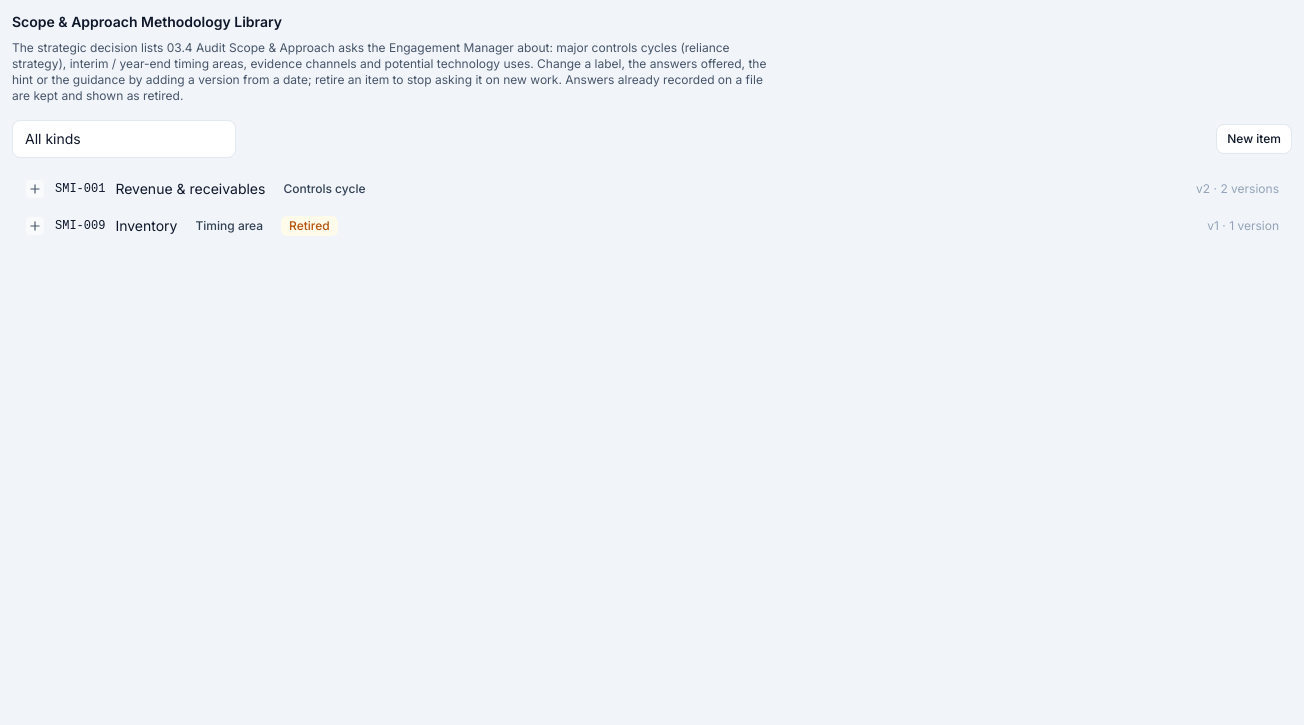
03.4 Scope & Approach Methodology Library administration › lists each item once (latest version), its kind, history and retired items
The image size is (1304, 725).
Expected: the text "Revenue & receivables" is shown, [115,179,265,199]
Expected: the text "Retired" is shown, [281,216,338,236]
Click the button "SMI-001 Revenue & receivables Controls cycle v2 · 2 versions": (80, 189) [25,179,1279,199]
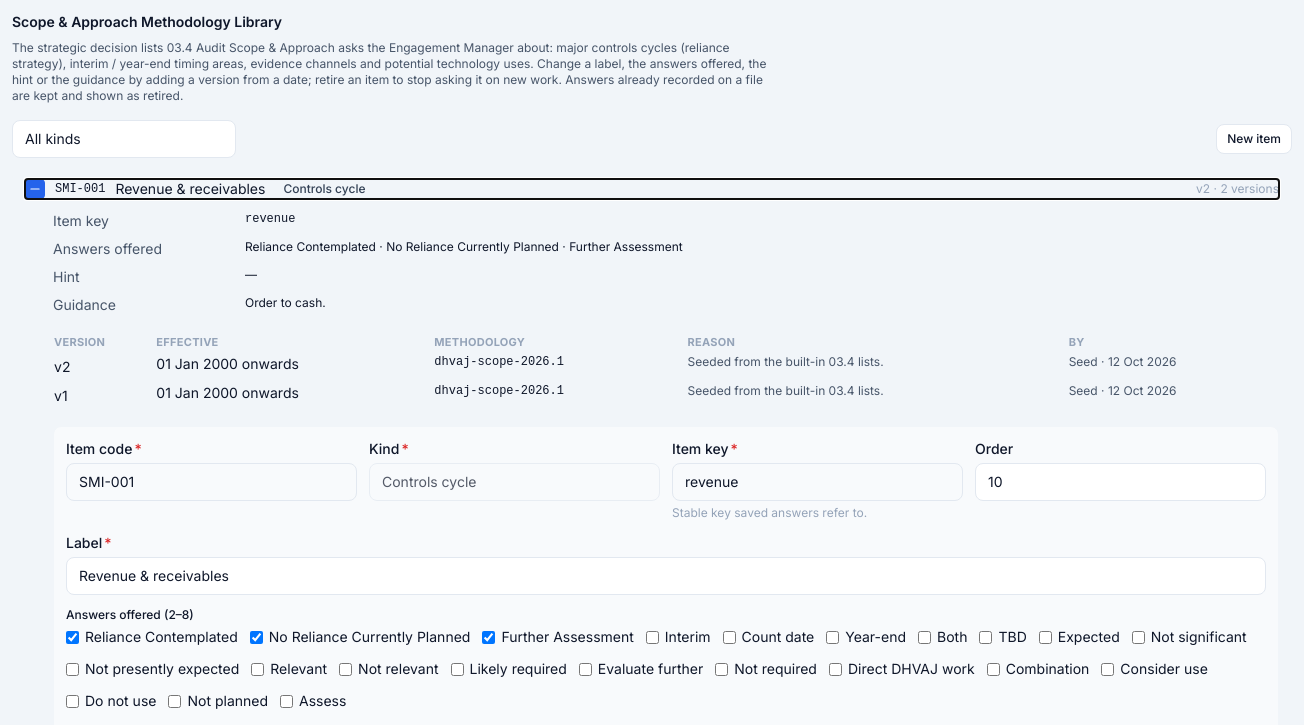
Now the text "Order to cash." is shown, box [245,295,326,310]
Now the text "v1" is shown, box [53,382,155,410]
Now the text "v2" is shown, box [53,353,155,382]
